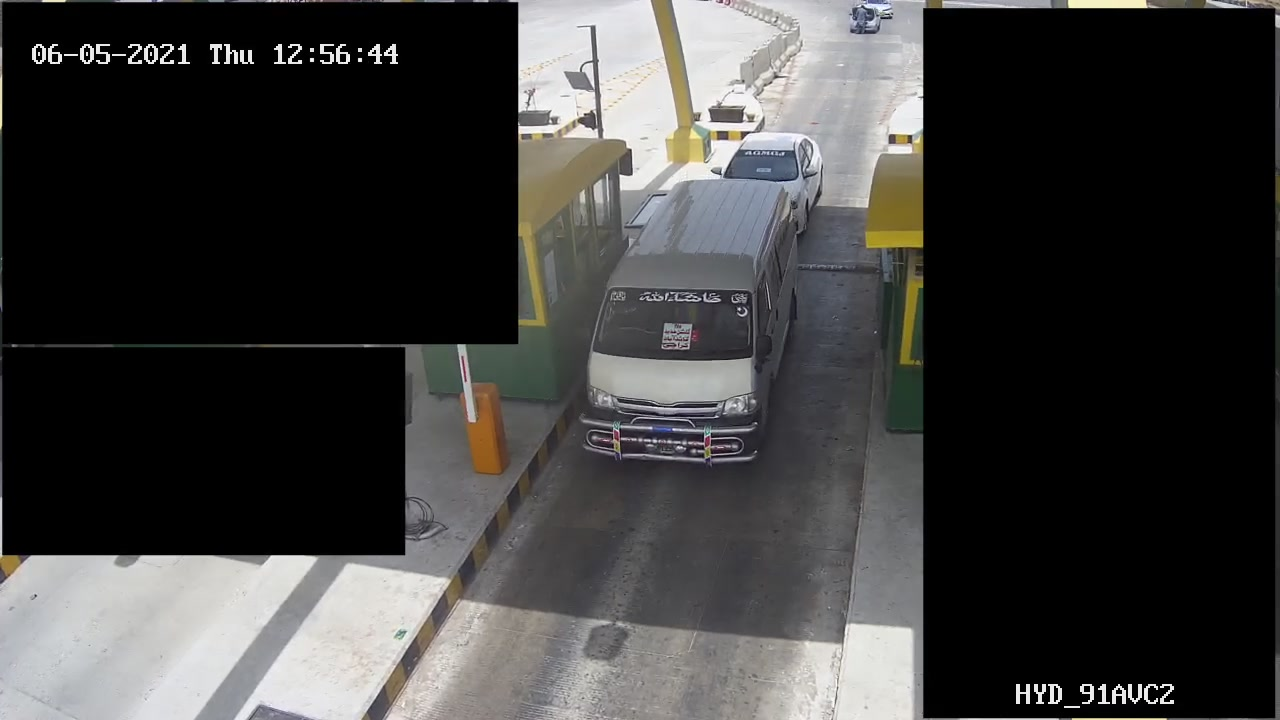F2: (577, 171, 806, 474)
